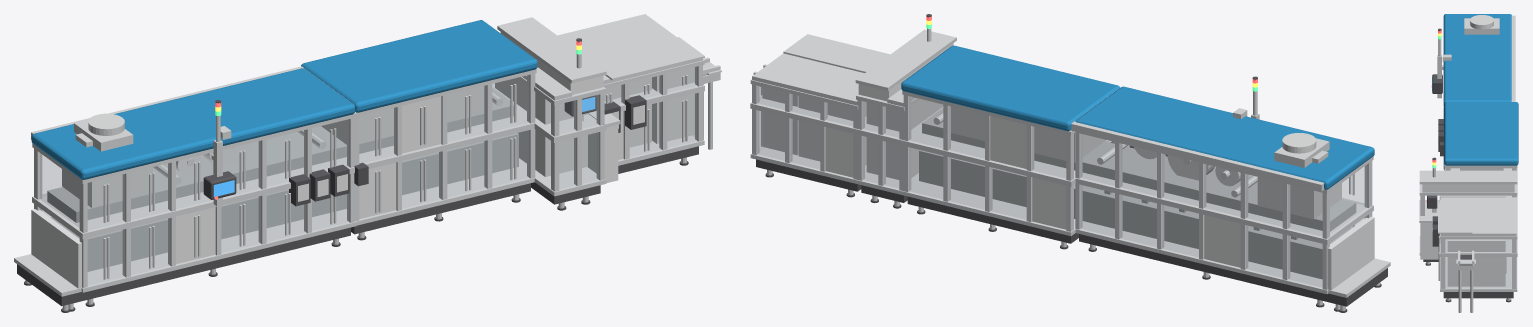
File: BEC700_blockout_v4.glb
3 views of the same model, side by side, from view 1: azimuth 30°, elevation 25°; view 2: azimuth 150°, elevation 25°; view 3: azimuth 270°, elevation 25° (orthographic). The views are drawn at different scales.
Visible parts, largest first — view 1: bandeau_bleu, bandeau_bleu_02, chassis_bas, chassis_haut, traverse_A_02, traverse_A, toit_D, toit_C, bati_transfert, joue_entree, table_sortie, traverse_B (+72 smaller); view 2: bandeau_bleu, bandeau_bleu_02, chassis_bas, chassis_haut, traverse_A_02, toit_D, traverse_A, toit_principal, toit_C, traverse_B_02, bati_transfert, traverse_B (+69 smaller); view 3: bandeau_bleu, bandeau_bleu_02, pignon_D, groupe_sortie, toit_D, toit_C, table_sortie, bloc_transfert, traverse_D, magasin_avant, traverse_D_02, socle_D (+24 smaller).
Part boxes in pixels (x1,y1,x2,y2): bandeau_bleu: (31,68,355,179); bandeau_bleu_02: (301,20,537,112); chassis_bas: (51,133,518,271); chassis_haut: (47,87,513,222); traverse_A_02: (32,157,354,239); traverse_A: (81,211,356,292); toit_D: (557,14,702,84); toit_C: (497,17,606,83); bati_transfert: (495,78,587,176); joue_entree: (31,209,81,288); table_sortie: (590,37,704,80); traverse_B: (339,166,534,225); bandeau_bleu: (1075,86,1374,189); bandeau_bleu_02: (901,45,1120,131); chassis_bas: (919,150,1351,279); chassis_haut: (922,108,1356,231); traverse_A_02: (1074,145,1373,244); toit_D: (752,53,864,105); traverse_A: (1074,221,1328,294); toit_principal: (1070,90,1324,191); toit_C: (855,29,956,90); traverse_B_02: (901,128,1110,186); bati_transfert: (866,99,943,179); traverse_B: (902,181,1083,236); bandeau_bleu: (1443,14,1511,104); bandeau_bleu_02: (1444,102,1518,165); pignon_D: (1446,240,1511,287); groupe_sortie: (1447,239,1505,286); toit_D: (1440,197,1516,236); toit_C: (1419,170,1517,184); table_sortie: (1438,202,1472,233); bloc_transfert: (1422,184,1514,192); traverse_D: (1440,257,1517,291); magasin_avant: (1420,223,1438,259); traverse_D_02: (1439,216,1517,256); socle_D: (1443,292,1513,298).
Size of the model in its own units: 10.27 by 2.69 by 2.01.
